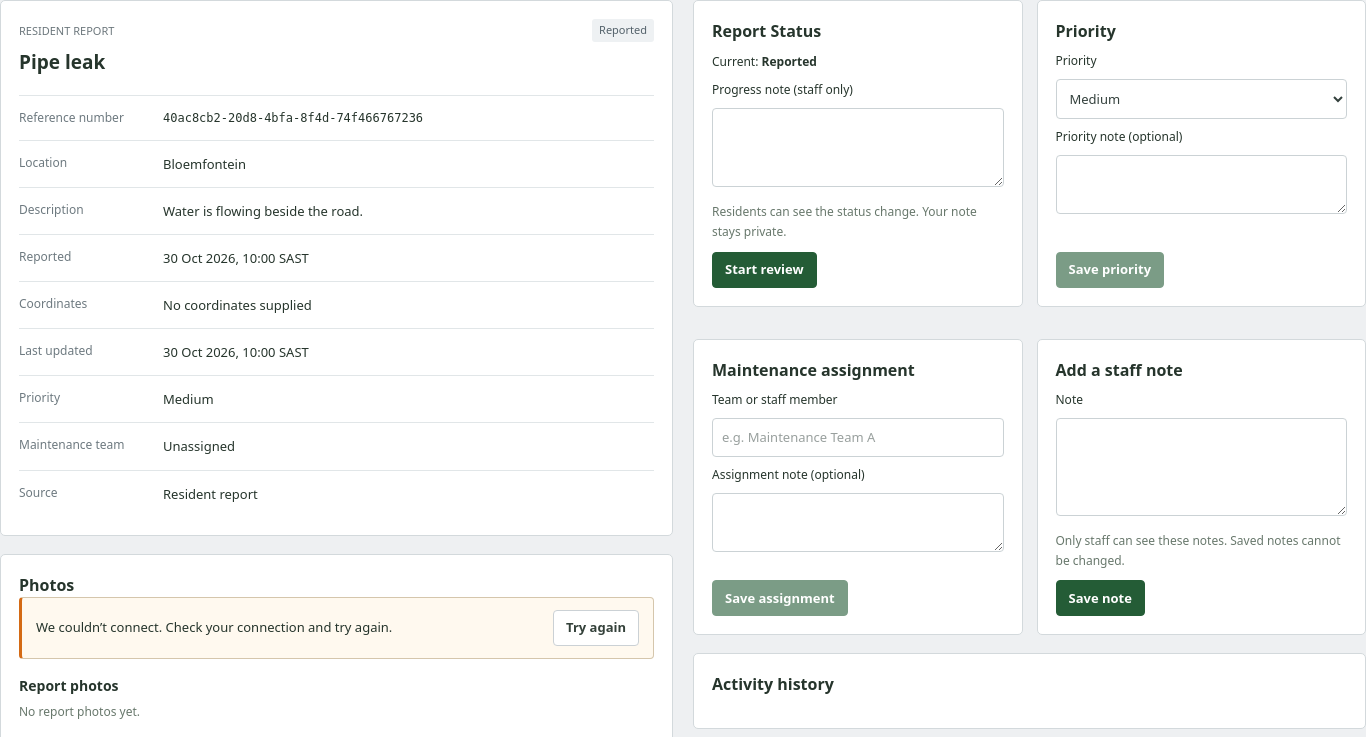
Test: operator workflow › updates priority and assignment without changing lifecycle status
Select "High" in the dropdown labelled "Priority" at [1201, 99], box [1056, 79, 1347, 119]
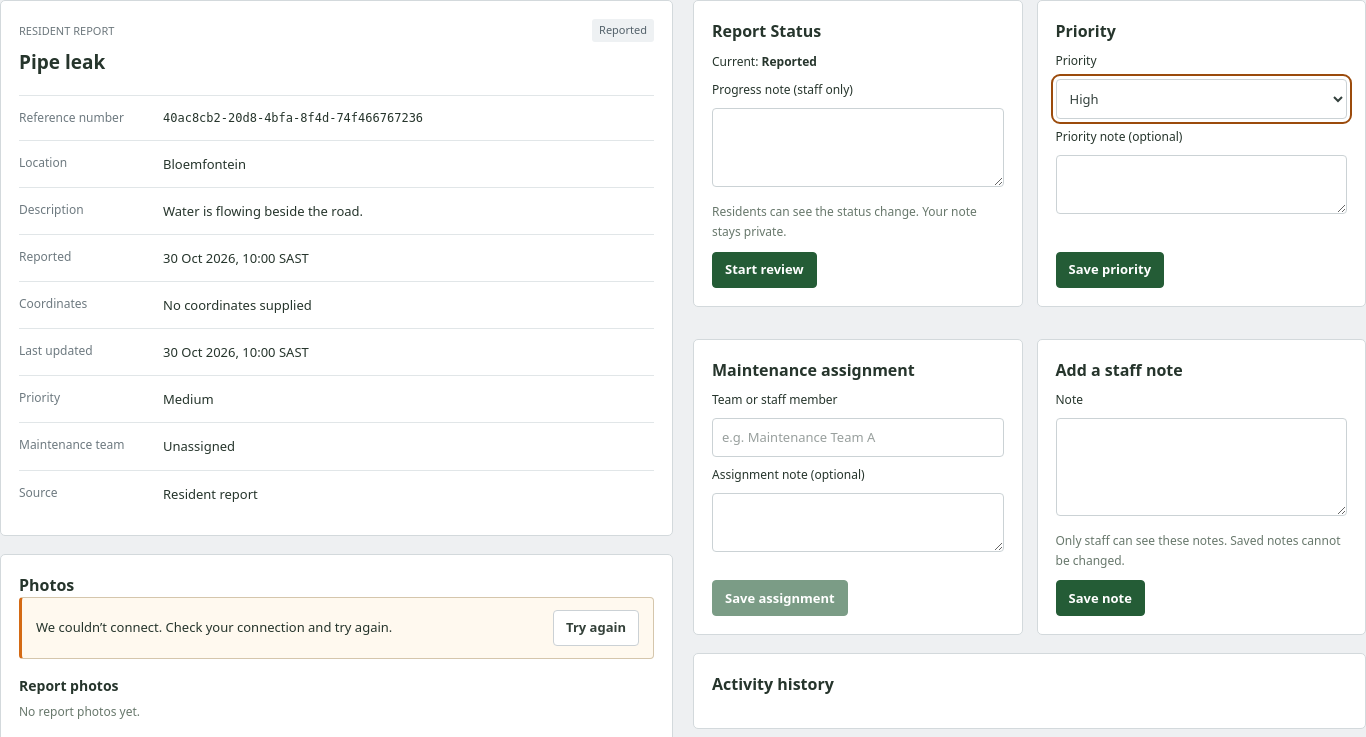
Click the button "Save priority" at [1110, 270], box [1056, 252, 1164, 288]
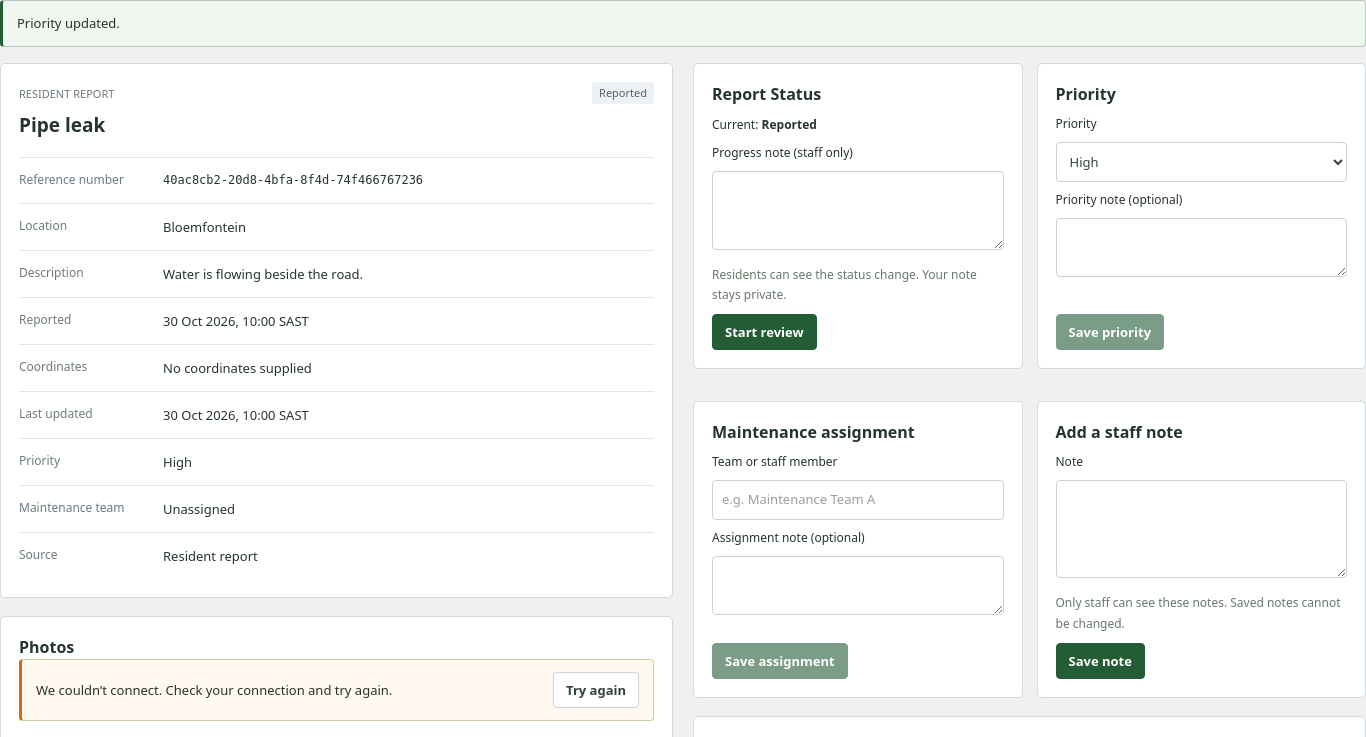
Result: the message "Priority updated." is shown at [0, 0, 1365, 47]
Click the field labelled "Team or staff member" at [858, 500], box [712, 480, 1004, 520]
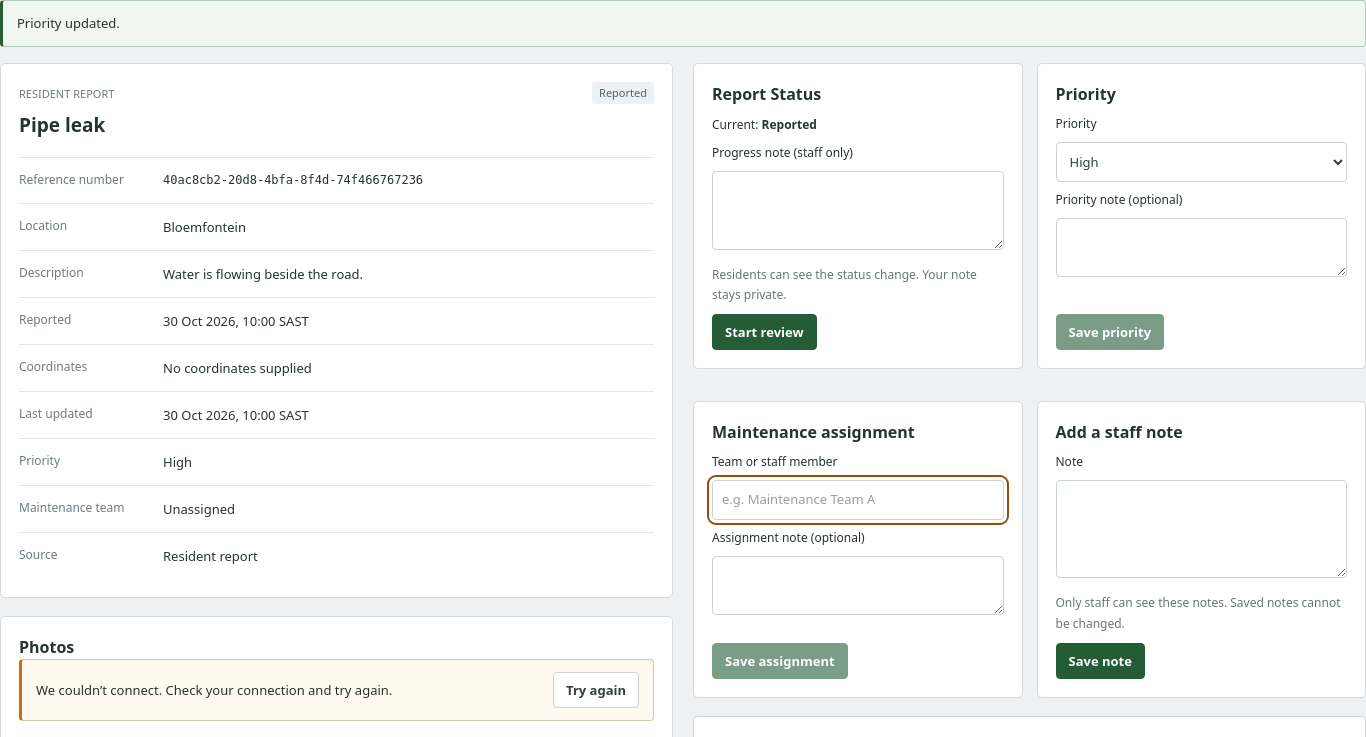
Type keys "Maintenance A"
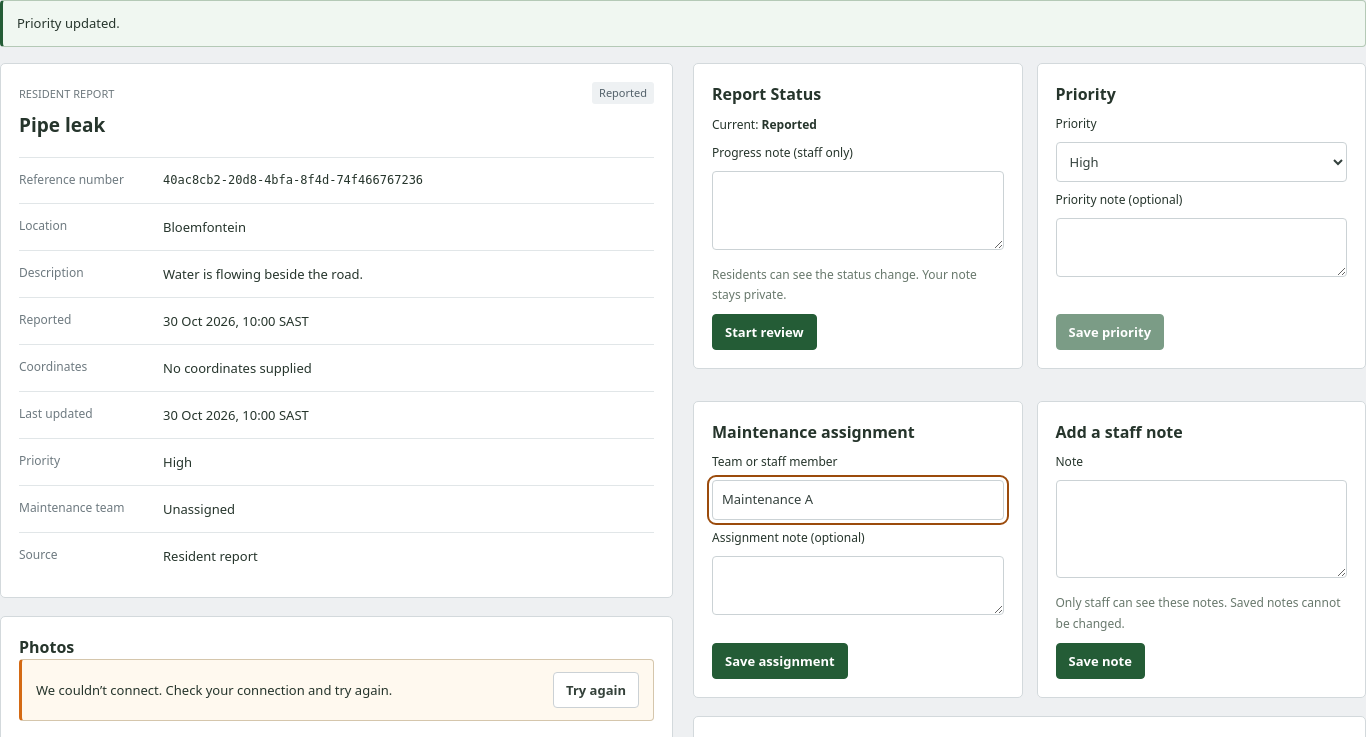
Click the button "Save assignment" at [780, 661], box [712, 643, 848, 679]
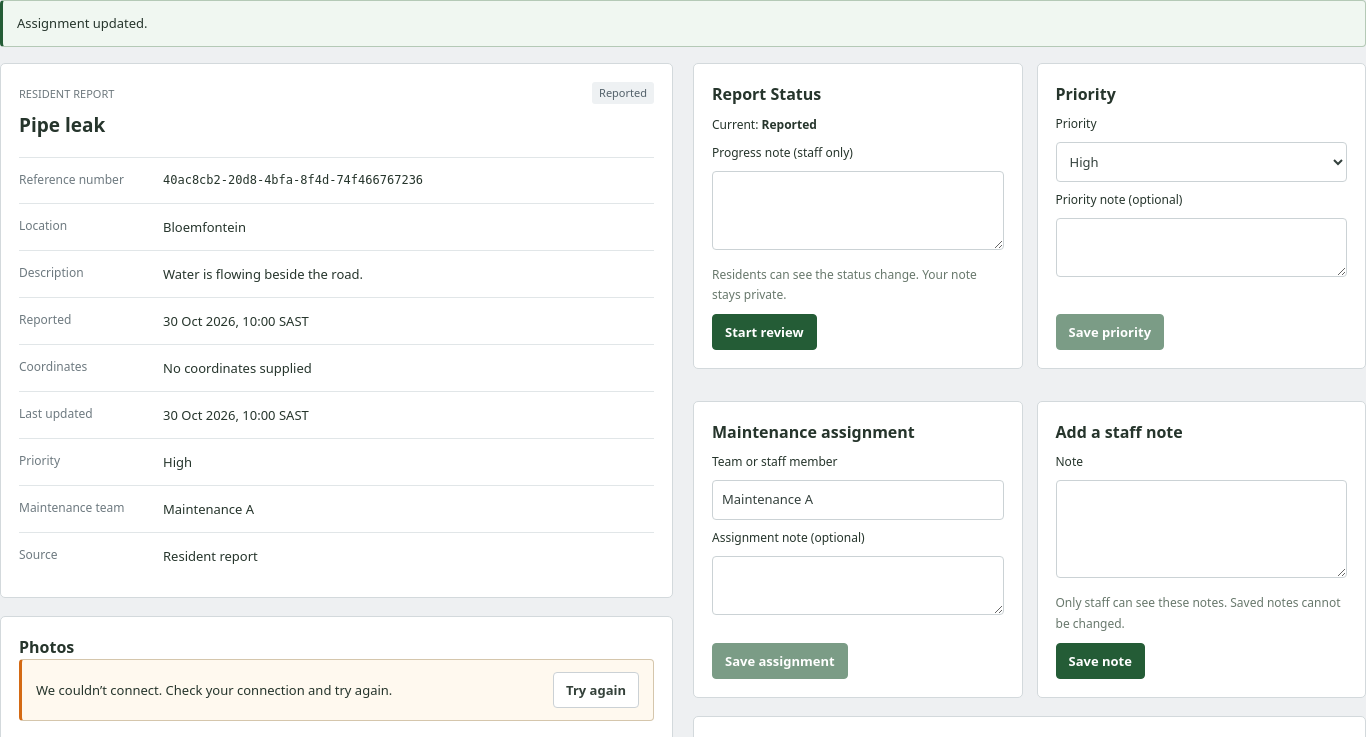
Expected: the button "Start review" is shown, [712, 314, 817, 350]
Result: the message "Assignment updated." is shown at [0, 0, 1365, 47]
